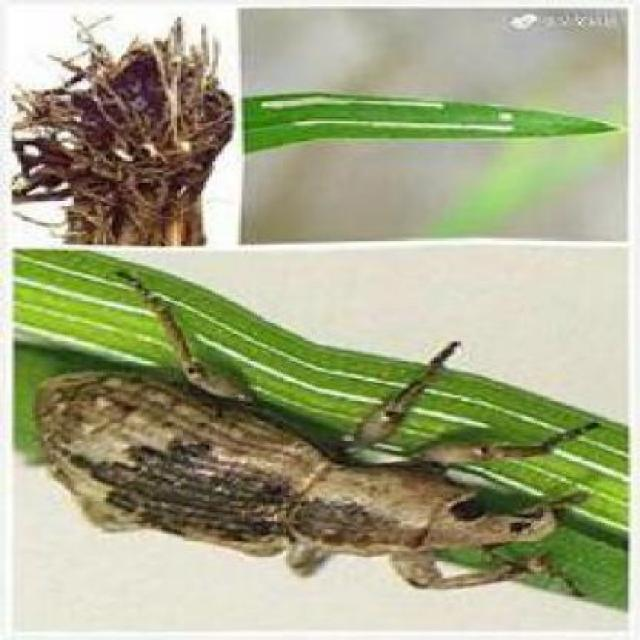rice-bug: (34, 354, 575, 586)
